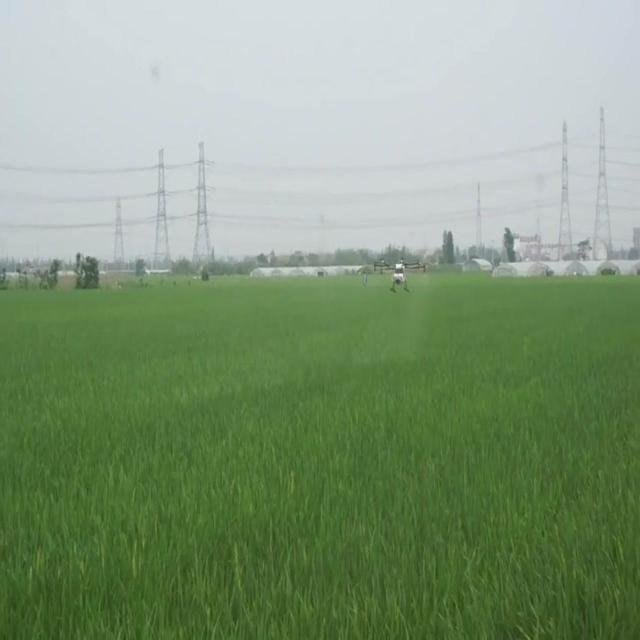drone: (373, 258, 428, 294)
